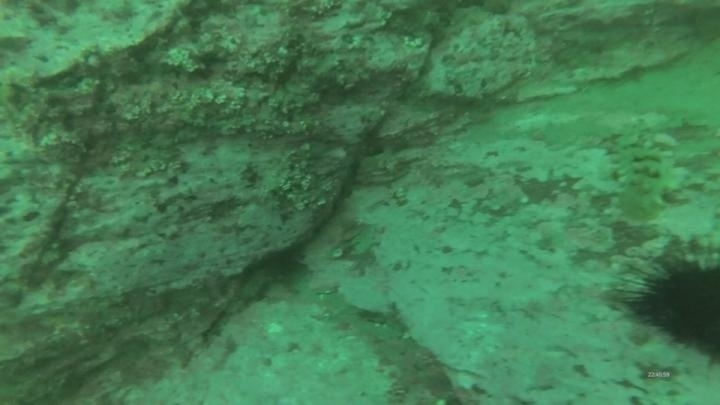echinus: (617, 249, 720, 364)
holothurian: (609, 140, 677, 226)
